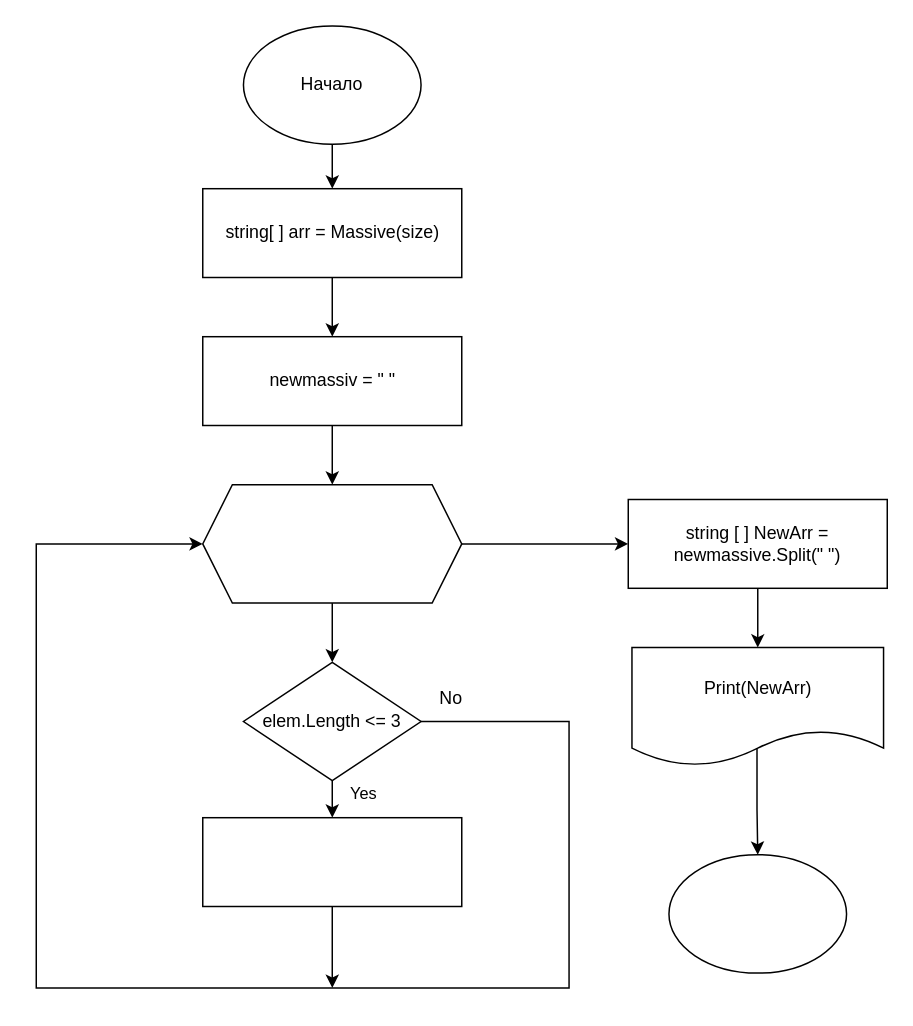
Some shapes in this 913 by 1026 pixel diagram are drawn without their labels. The shapes that lost their labels are listed below. From the top down, each one's box as (x1, y1, x2, y2) in pixels, then its label:
(201, 483, 462, 603): elem in arr
(201, 816, 462, 906): new massive += elem + '' ''
(667, 853, 847, 973): Конец
